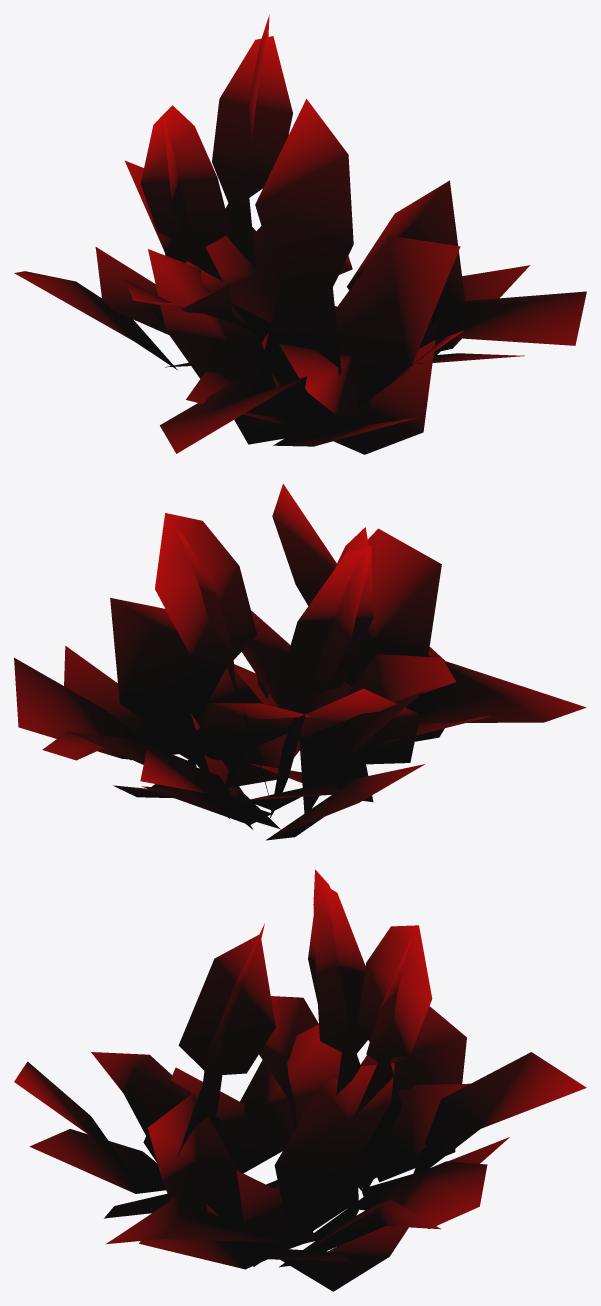
File: Astilb_3.fbx
3 renders of one model, top to bottom at view 1: azimuth 30°, elevation 25°; view 2: azimuth 150°, elevation 25°; view 3: azimuth 270°, elevation 25°, orthographic.
Visible parts, largest first — view 1: Astilb_3; view 2: Astilb_3; view 3: Astilb_3.
Part boxes in pixels (x1,y1,x2,y2): Astilb_3: (14,14,586,454); Astilb_3: (14,483,586,840); Astilb_3: (14,869,586,1291).
Size of the model in its own units: 110 by 81.62 by 124.
